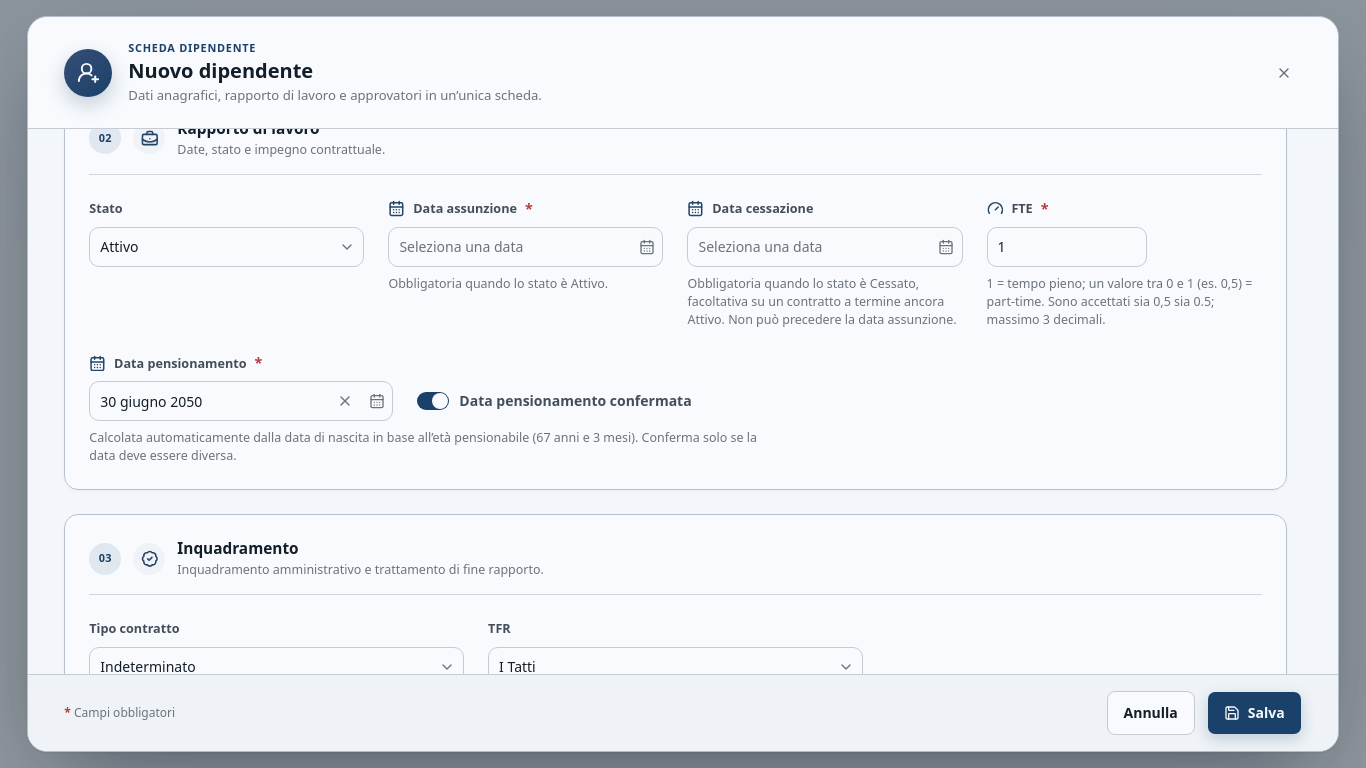
Test: EmployeeForm modal › restores a confirmed retirement date when the override is switched back on
(page scrolled)
Click the switch named "Data pensionamento confermata" at (433, 401), box [417,392,449,410]
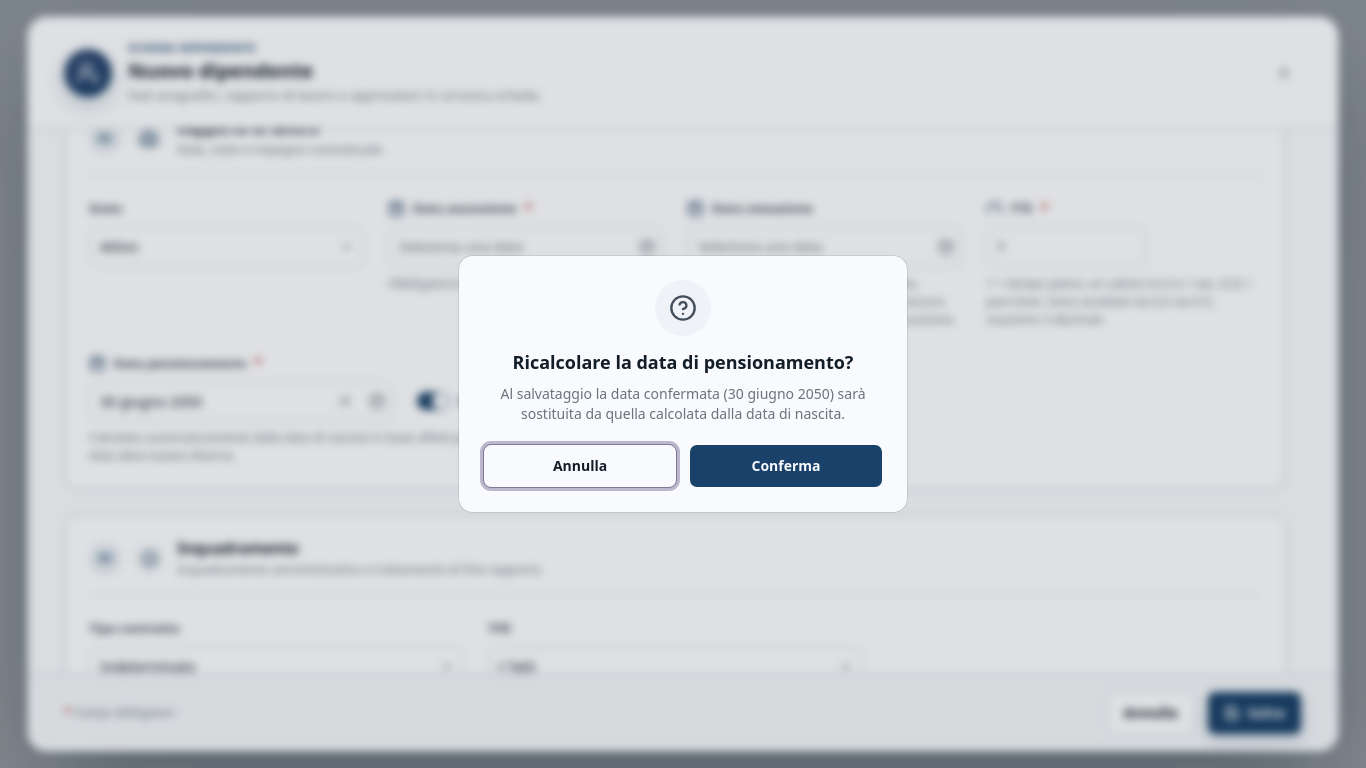
Click the button "Conferma" at (786, 466), box [689,444,883,488]
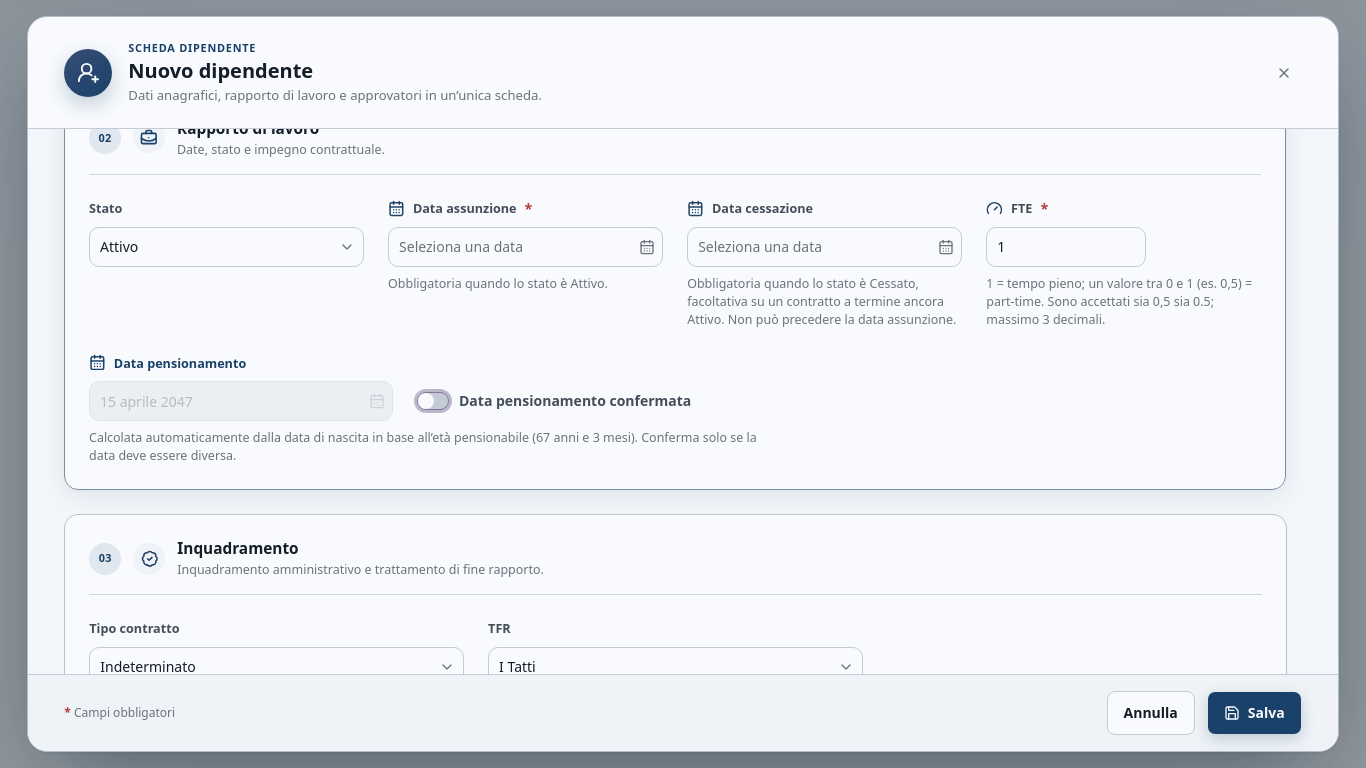
Expected: the field named "Data pensionamento" holds "15 aprile 2047", [90,381,365,421]
Click the switch named "Data pensionamento confermata" at (433, 401), box [417,392,449,410]
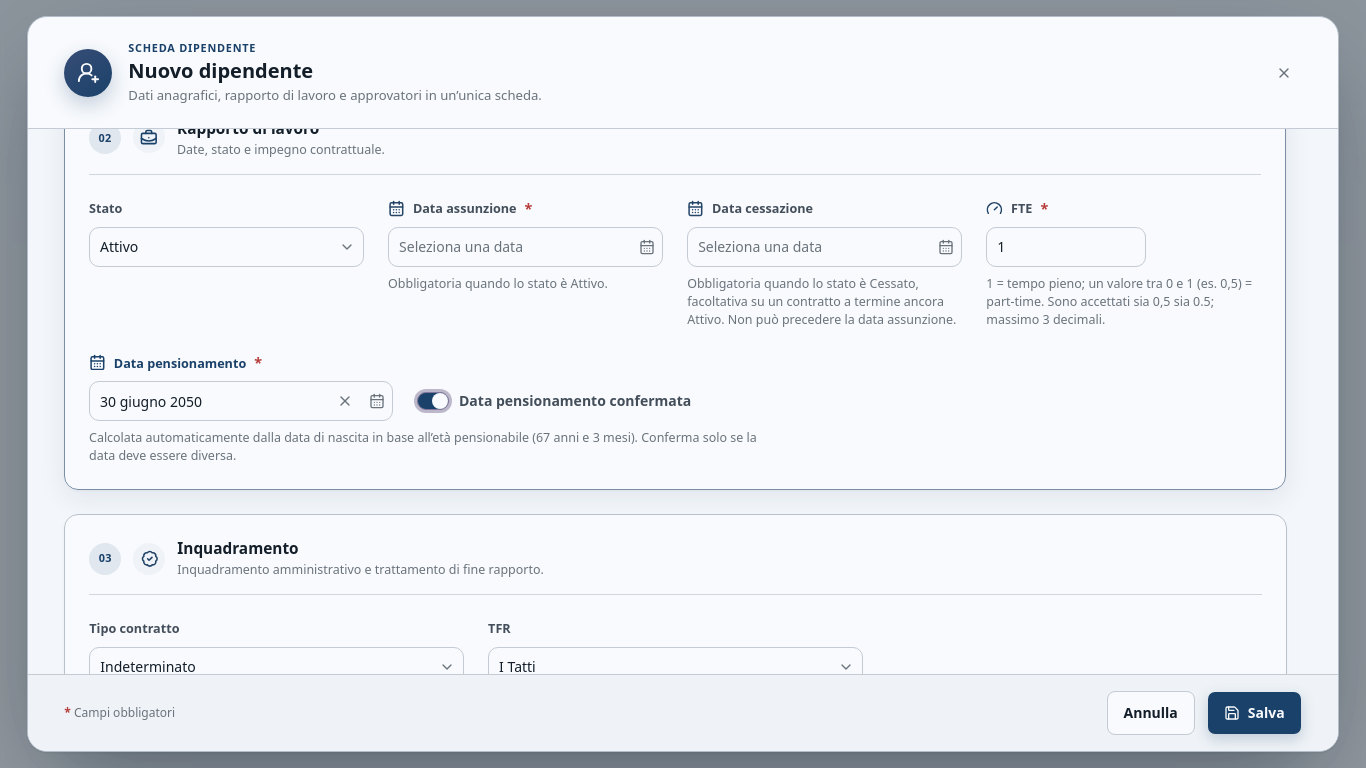
Expected: the field named "Data pensionamento" holds "30 giugno 2050", [90,381,333,421]
